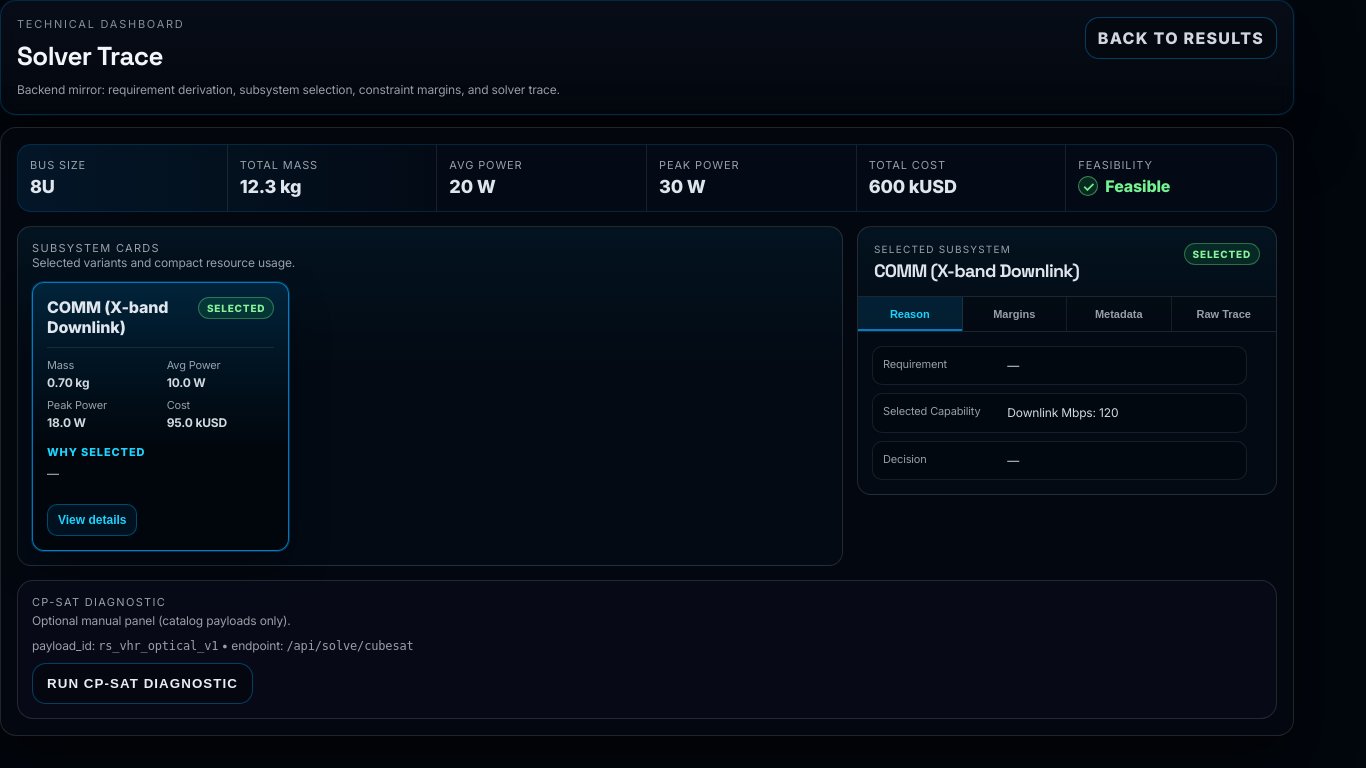
Test case: Solver Trace shows informative error for 400 JSON detail from CP-SAT endpoint
Click the button "Run CP-SAT Diagnostic": (142, 683) [32, 663, 253, 704]
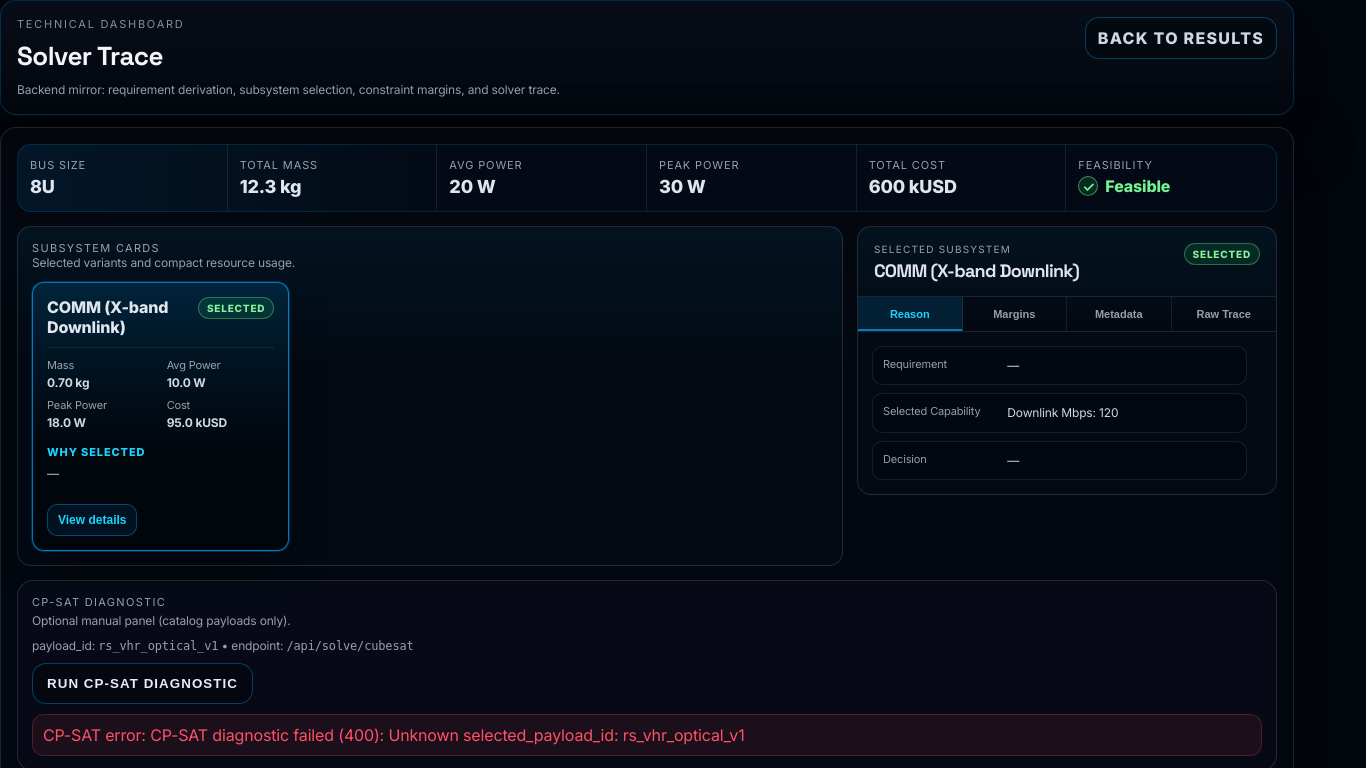
Expected: the text "CP-SAT error:" is shown, [43, 725, 150, 745]
Expected: the text "Unknown selected_payload_id" is shown, [150, 725, 744, 745]
